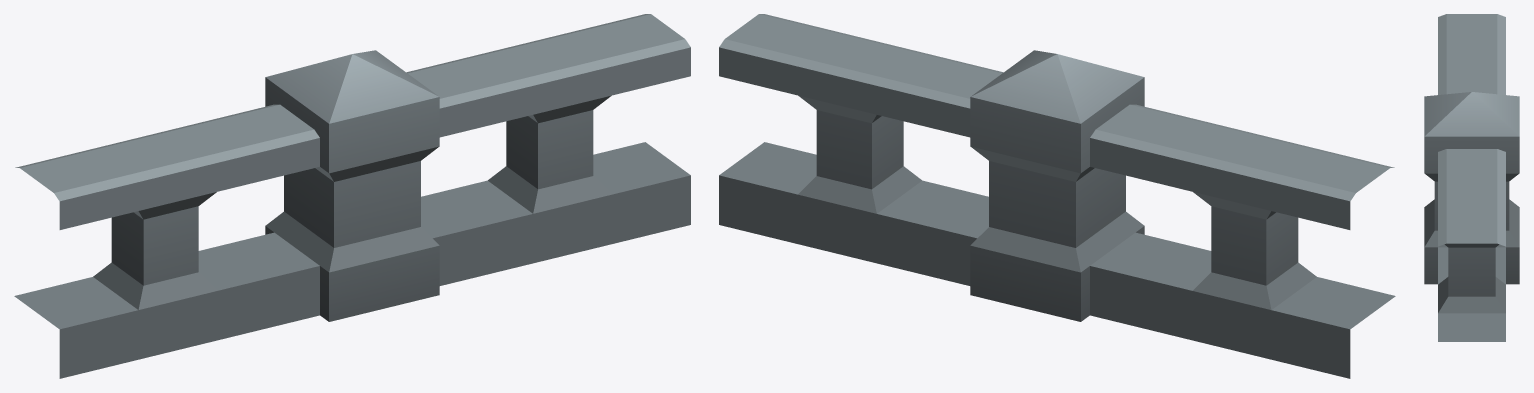
The model's file is barrier_column.gltf.
3 views of the same model, side by side, from view 1: azimuth 30°, elevation 25°; view 2: azimuth 150°, elevation 25°; view 3: azimuth 270°, elevation 25° (orthographic). The views are drawn at different scales.
Visible parts, largest first — view 1: barrier_column; view 2: barrier_column; view 3: barrier_column.
Part boxes in pixels (x1,y1,x2,y2): barrier_column: (14, 14, 690, 378); barrier_column: (719, 14, 1395, 378); barrier_column: (1424, 14, 1519, 341).
Bounding box in the file's own units: 4 × 1.4 × 0.7.
Materials: 1 (1 with a texture image).
